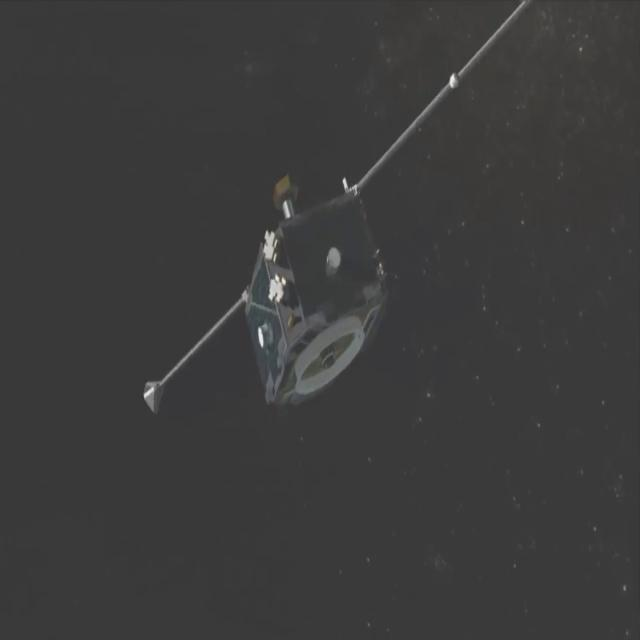satellite: (131, 0, 533, 432)
